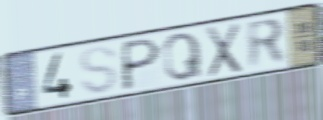4: (40, 49, 75, 103)
P: (119, 34, 163, 93)
Q: (161, 30, 205, 83)
R: (244, 16, 289, 72)
S: (78, 44, 120, 96)
X: (204, 20, 244, 80)
